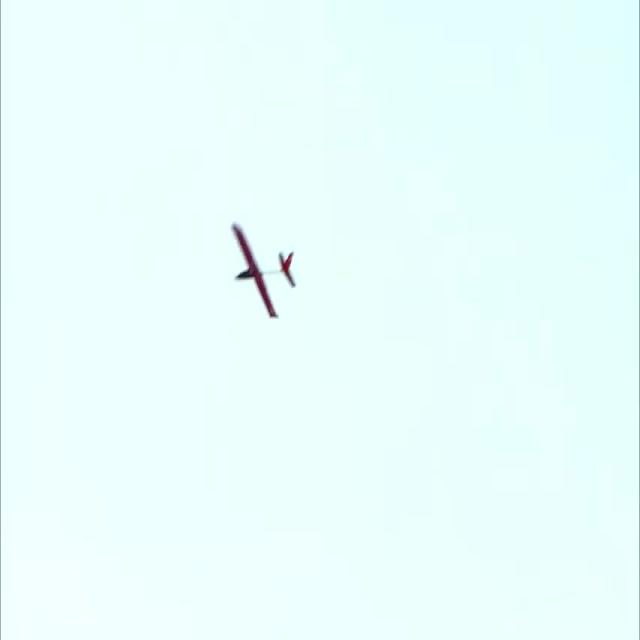iha: (255, 255, 259, 286)
